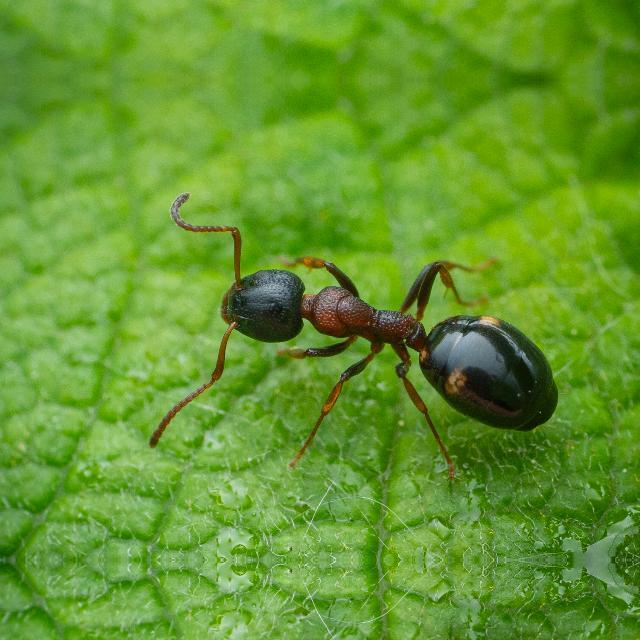Dolichoderus: (140, 178, 570, 478)
